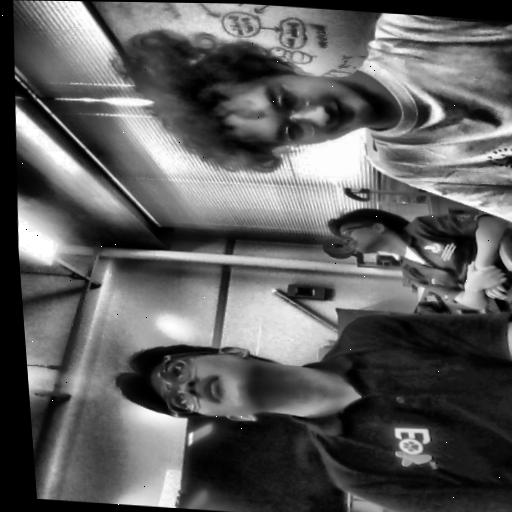Daifuku: (110, 27, 400, 184)
Not Daifuku: (136, 339, 289, 431)
